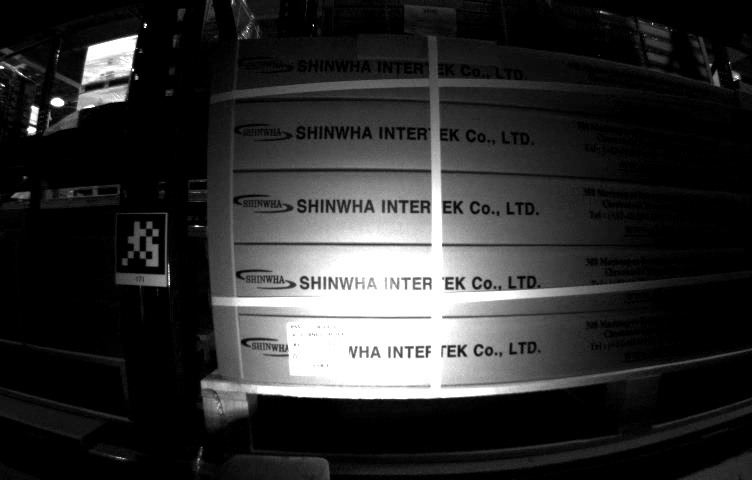True Barcode: (287, 320, 352, 377)
